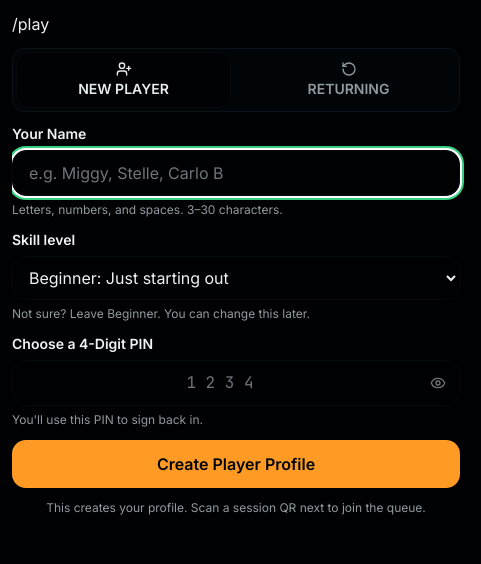
Test case: LoginForm › LF-11: a skill error focuses the compact select by name and announces the error only
Type "Miggy" into the field labelled "Your Name".
click(236, 173); type("Miggy")  # box [12,150,460,196]
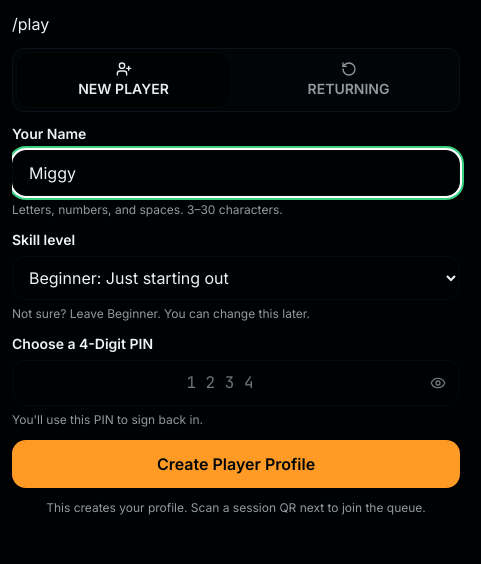
Type "1234" into the password field labelled "Choose a 4-Digit PIN".
click(236, 383); type("1234")  # box [12,360,460,406]
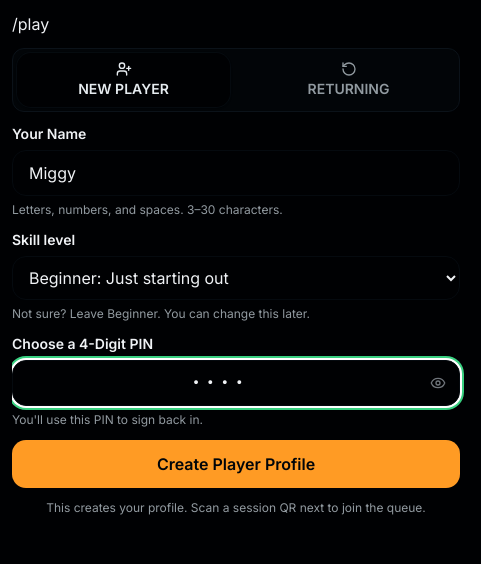
Click the button "Create Player Profile".
click(236, 464)  # box [12,440,460,488]
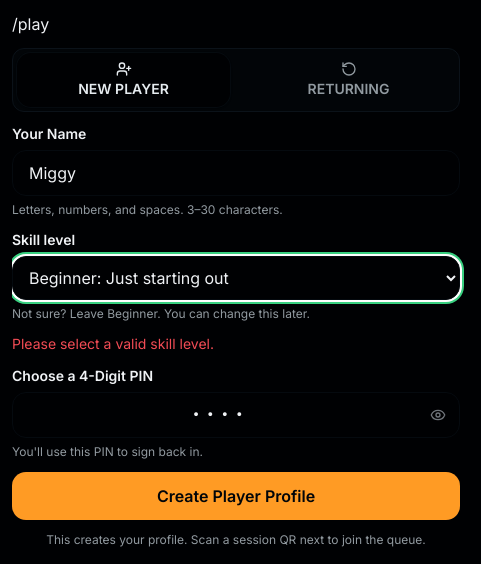
Now the text "Please select a valid skill level." is shown, box [12,335,214,352]
